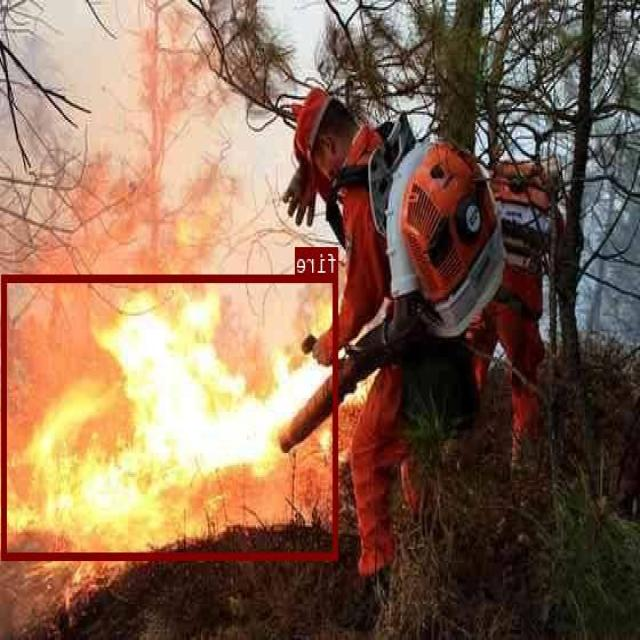fire: (3, 274, 339, 558)
